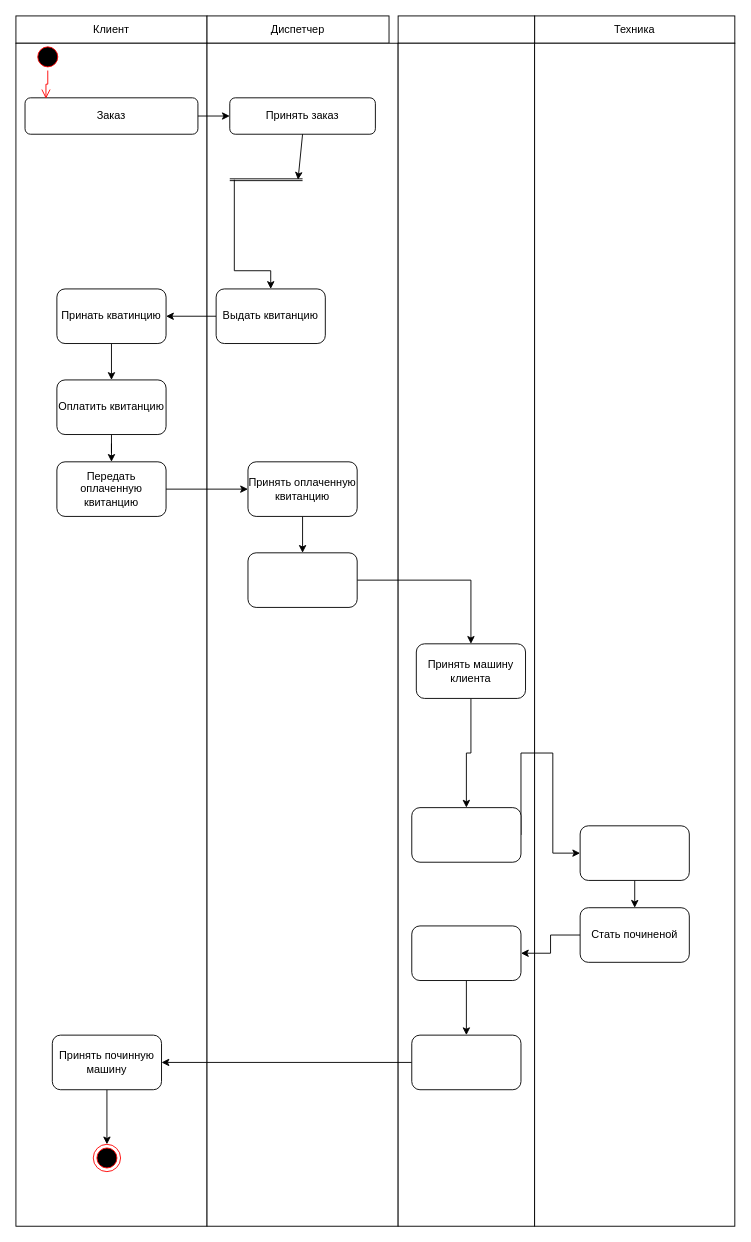
This 751x1242 diagram has some shape labels left out. The centre of each missing label's shape, as x and y in pixels:
Мастер: the point at 466,29
Передать клиенту починеную машину: the point at 466,1062
Передать машину клиента: the point at 302,579
Принять машину с починки: the point at 466,953
Чинить машину: the point at 466,834
Чиниться: the point at 634,852
